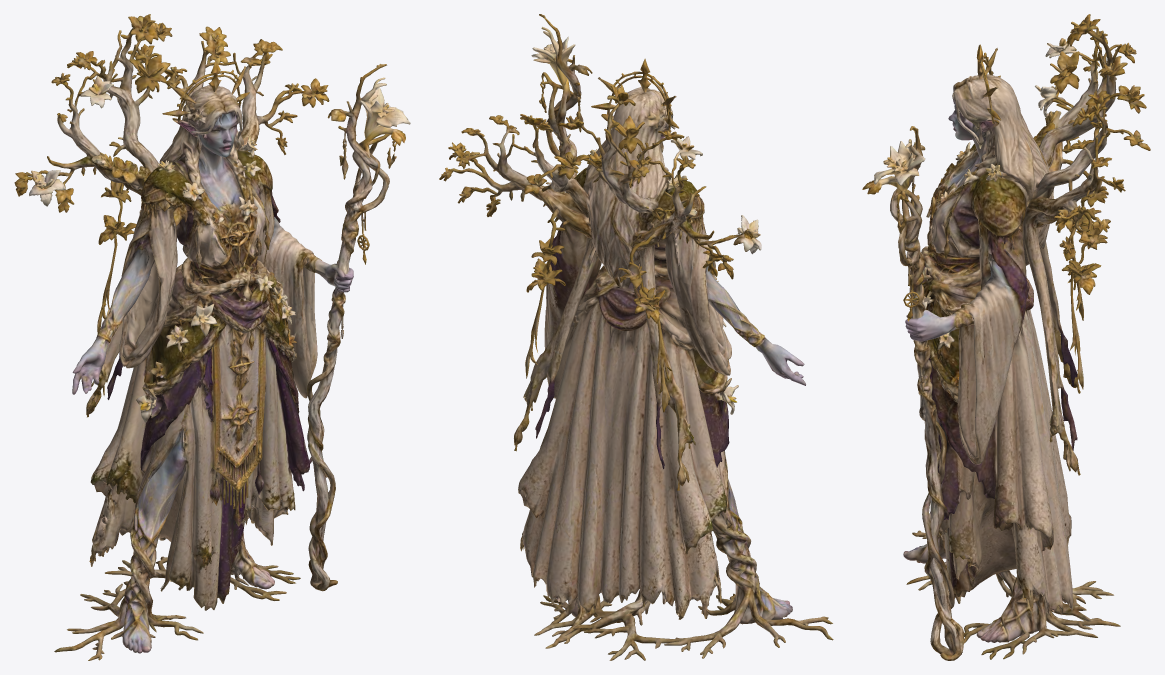
Rendered from arcane_druid.glb.
The picture shows the model from 3 angles, left to right: view 1: azimuth 30°, elevation 25°; view 2: azimuth 150°, elevation 25°; view 3: azimuth 270°, elevation 25°; orthographic projection. The views are drawn at different scales.
Visible parts, largest first — view 1: tripo_node_eac86653-c770-4c15-959e-a7416fe27dbd; view 2: tripo_node_eac86653-c770-4c15-959e-a7416fe27dbd; view 3: tripo_node_eac86653-c770-4c15-959e-a7416fe27dbd.
Boxes of the visible parts, <box> form: tripo_node_eac86653-c770-4c15-959e-a7416fe27dbd: <box>14,14,410,660</box>; tripo_node_eac86653-c770-4c15-959e-a7416fe27dbd: <box>439,14,833,660</box>; tripo_node_eac86653-c770-4c15-959e-a7416fe27dbd: <box>862,14,1150,660</box>.
Bounding box in the file's own units: 0.5979 × 0.9792 × 0.4388.
1 material, 1 textured.
